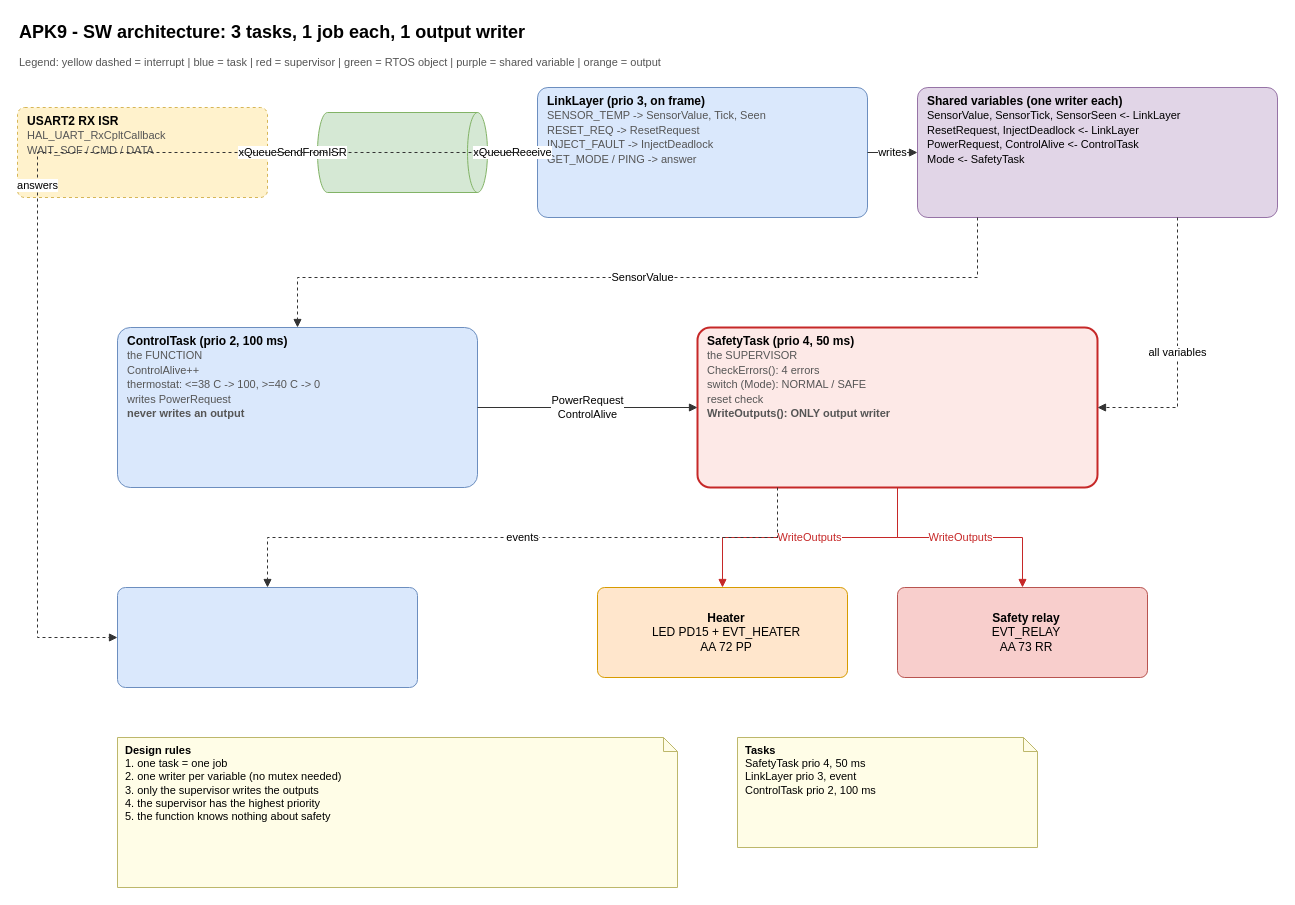
The diagram is 1295 pixels wide and 905 high, and some of its shapes have lost their labels. Each missing label, with the centre of its shape:
"QueueFrame 8 x Frame_t" belongs at point (402, 152).
"SendFrame(cmd, data) take xUartMutex HAL_UART_Transmit 3 bytes give xUartMutex" belongs at point (267, 637).
